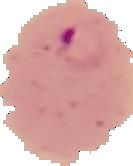parasitized: (56, 18, 108, 73)
